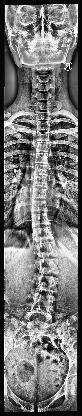Vertebrae: (25, 309, 51, 323), (37, 258, 59, 274), (32, 228, 54, 242), (35, 276, 57, 290), (30, 292, 52, 306), (36, 244, 58, 256), (31, 213, 49, 227), (31, 200, 47, 212), (34, 164, 48, 176), (34, 175, 48, 187), (36, 152, 48, 164), (36, 111, 50, 121), (36, 121, 50, 131), (36, 132, 50, 142), (35, 142, 49, 152), (32, 188, 46, 198)
